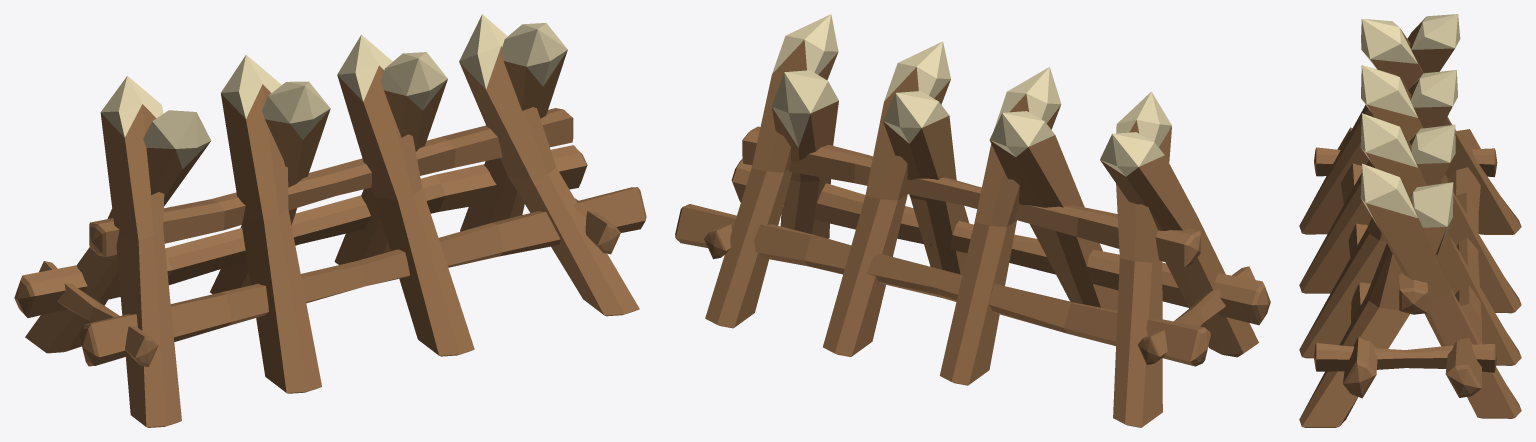
File: barricade_00.FBX
The picture shows the model from 3 angles, left to right: view 1: azimuth 30°, elevation 25°; view 2: azimuth 150°, elevation 25°; view 3: azimuth 270°, elevation 25°; orthographic projection. The views are drawn at different scales.
Visible parts, largest first — view 1: barricade_00; view 2: barricade_00; view 3: barricade_00.
Part boxes in pixels (box(x1,y1,x2,y2)): barricade_00: box(14, 14, 646, 427); barricade_00: box(675, 14, 1270, 427); barricade_00: box(1299, 14, 1521, 427).
Size of the model in its own units: 101 by 46.81 by 39.63.
